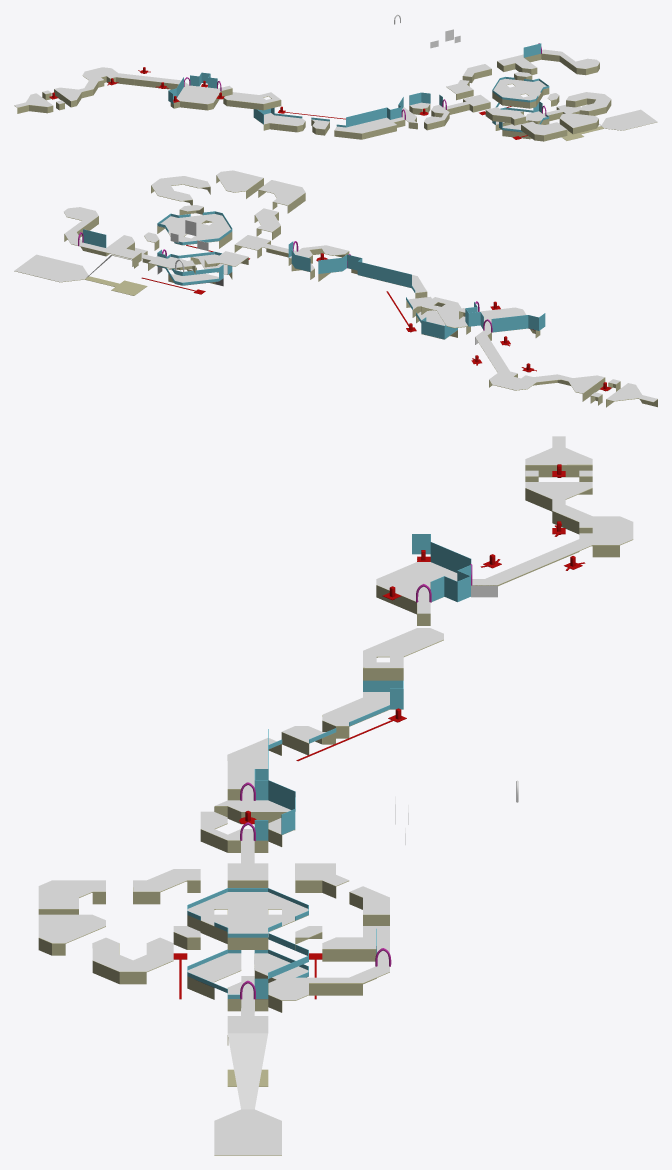
Rendered from Level2_Test_2022_23_05.fbx.
3 renders of one model, top to bottom at view 1: azimuth 30°, elevation 25°; view 2: azimuth 150°, elevation 25°; view 3: azimuth 270°, elevation 25°, orthographic. The views are drawn at different scales.
Visible parts, largest first — view 1: Plane004, Box987, Box132, Plane002, Plane005, Box823, Cylinder005, Box813, Box1140, Plane003, Box106, Cylinder007 (+3 smaller); view 2: Plane004, Box987, Plane002, Plane005, Box132, Box823, Box1140, Cylinder005, Plane003, Box646, Box813, Plane001; view 3: Plane004, Plane005, Box987, Plane002, Cylinder005, Box823, Box1140, Box132, Plane003, Box813, Cylinder007, Plane001.
Part boxes in pixels (bbox=[...]): Plane004: bbox=[264, 49, 610, 135]; Box987: bbox=[446, 43, 611, 141]; Box132: bbox=[253, 106, 405, 139]; Plane002: bbox=[42, 67, 232, 104]; Plane005: bbox=[496, 104, 657, 130]; Box823: bbox=[168, 72, 232, 110]; Cylinder005: bbox=[398, 92, 449, 130]; Box813: bbox=[54, 75, 178, 107]; Box1140: bbox=[479, 101, 549, 139]; Plane003: bbox=[224, 92, 280, 103]; Box106: bbox=[223, 96, 281, 110]; Cylinder007: bbox=[538, 43, 599, 75]; Plane004: bbox=[63, 170, 445, 325]; Box987: bbox=[79, 175, 305, 273]; Plane002: bbox=[459, 307, 619, 397]; Plane005: bbox=[14, 247, 227, 282]; Box132: bbox=[347, 254, 457, 339]; Box823: bbox=[459, 301, 545, 337]; Box1140: bbox=[141, 245, 249, 294]; Cylinder005: bbox=[288, 241, 350, 281]; Plane003: bbox=[422, 297, 467, 327]; Box646: bbox=[14, 271, 147, 295]; Box813: bbox=[475, 332, 605, 401]; Plane001: bbox=[606, 383, 657, 401]; Plane004: bbox=[38, 692, 389, 1000]; Plane005: bbox=[187, 953, 308, 1154]; Box987: bbox=[38, 880, 389, 984]; Plane002: bbox=[376, 470, 633, 613]; Cylinder005: bbox=[200, 780, 295, 852]; Box823: bbox=[376, 534, 472, 625]; Box1140: bbox=[173, 933, 322, 1011]; Box132: bbox=[227, 680, 406, 800]; Plane003: bbox=[363, 628, 443, 667]; Box813: bbox=[472, 488, 633, 586]; Cylinder007: bbox=[268, 948, 391, 1012]; Plane001: bbox=[525, 436, 592, 464].
Bounding box in the file's own units: 285 × 48.17 × 132.
